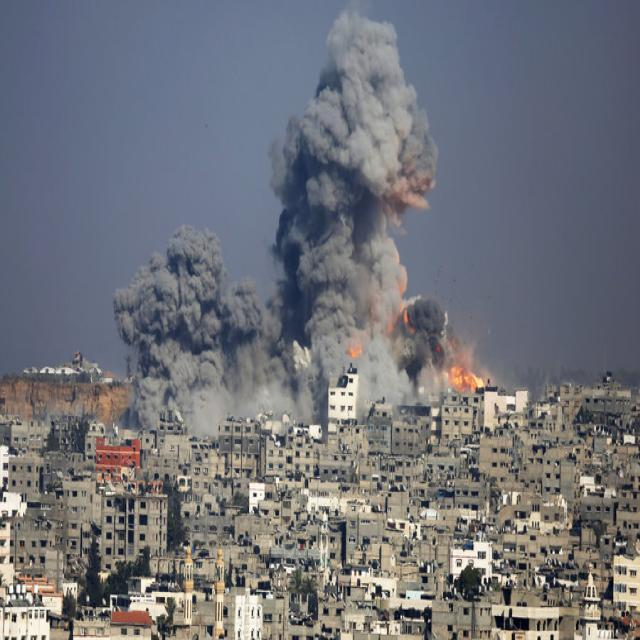Fire: (438, 356, 484, 394), (429, 316, 456, 354), (386, 306, 416, 338), (347, 339, 364, 362)
Smoke: (266, 9, 439, 222), (112, 224, 268, 437), (270, 226, 340, 414), (342, 225, 408, 308), (386, 341, 426, 412), (365, 312, 385, 412), (428, 356, 438, 414), (416, 298, 426, 338), (428, 296, 446, 316)
